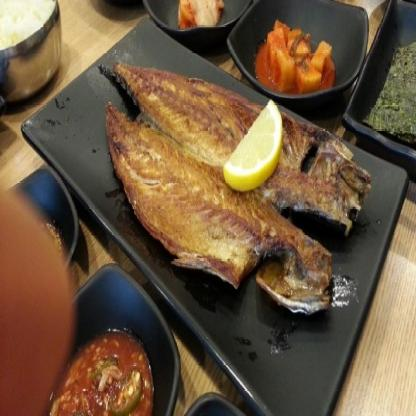Peixe: (107, 71, 382, 311)
